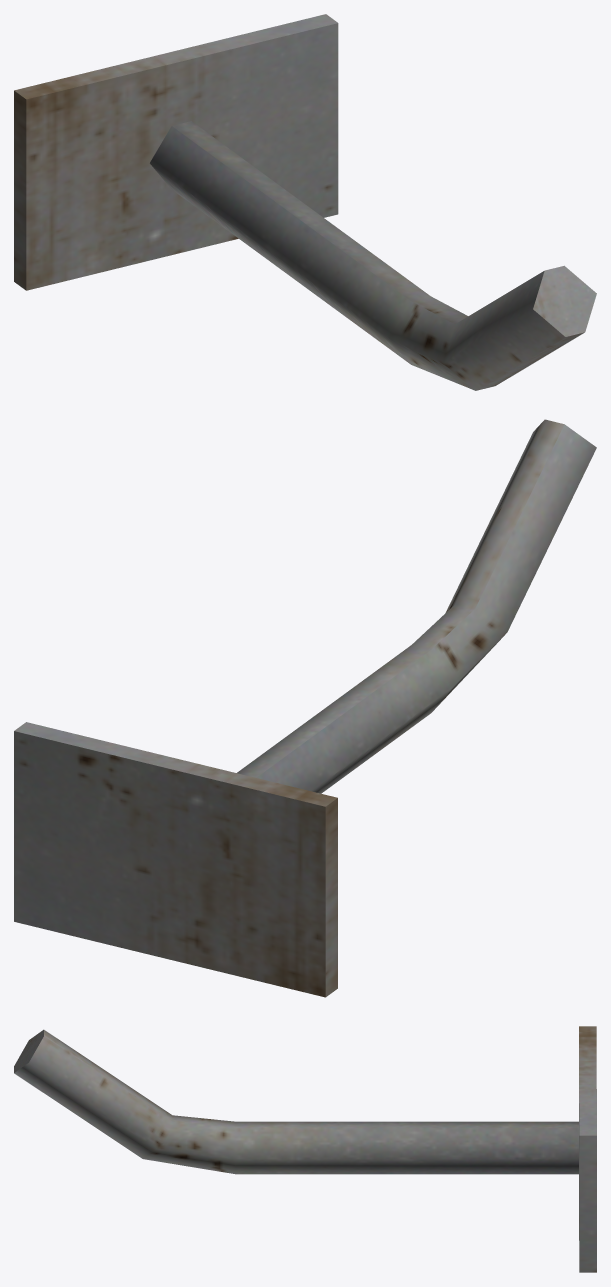
File: hanger01a.fbx
3 renders of one model, top to bottom at view 1: azimuth 30°, elevation 25°; view 2: azimuth 150°, elevation 25°; view 3: azimuth 270°, elevation 25°, orthographic. The views are drawn at different scales.
Parts seen in each view (by area): view 1: fookholder01a; view 2: fookholder01a; view 3: fookholder01a.
Part boxes in pixels (bbox=[...]): fookholder01a: bbox=[14, 14, 596, 390]; fookholder01a: bbox=[14, 419, 596, 997]; fookholder01a: bbox=[14, 1026, 596, 1272].
Bounding box in the file's own units: 6.16 × 4.85 × 13.87.
